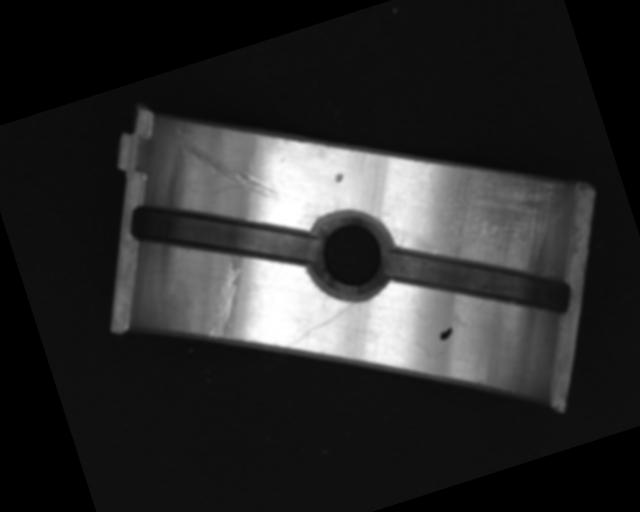blot: (436, 326, 455, 342)
bruise: (332, 172, 344, 184)
gap: (383, 205, 578, 360), (122, 160, 320, 311)
hole: (297, 201, 405, 312)
nick: (173, 102, 279, 219), (187, 254, 260, 342), (276, 301, 362, 349)
scratch: (428, 128, 586, 286)
